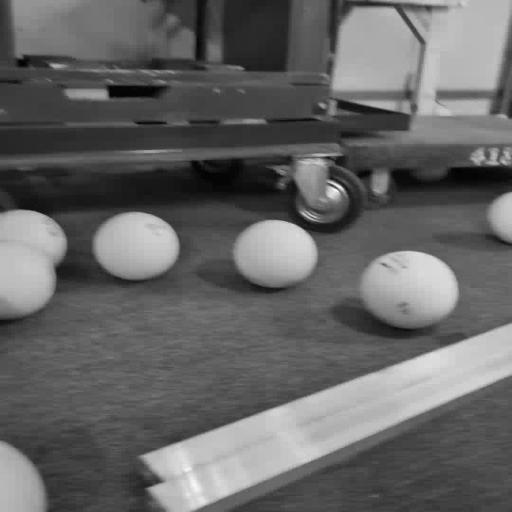fuel: (360, 251, 458, 330), (0, 210, 66, 320), (93, 212, 179, 281), (233, 220, 317, 289), (0, 442, 45, 512), (486, 192, 512, 244), (412, 168, 447, 182), (433, 107, 446, 116)
